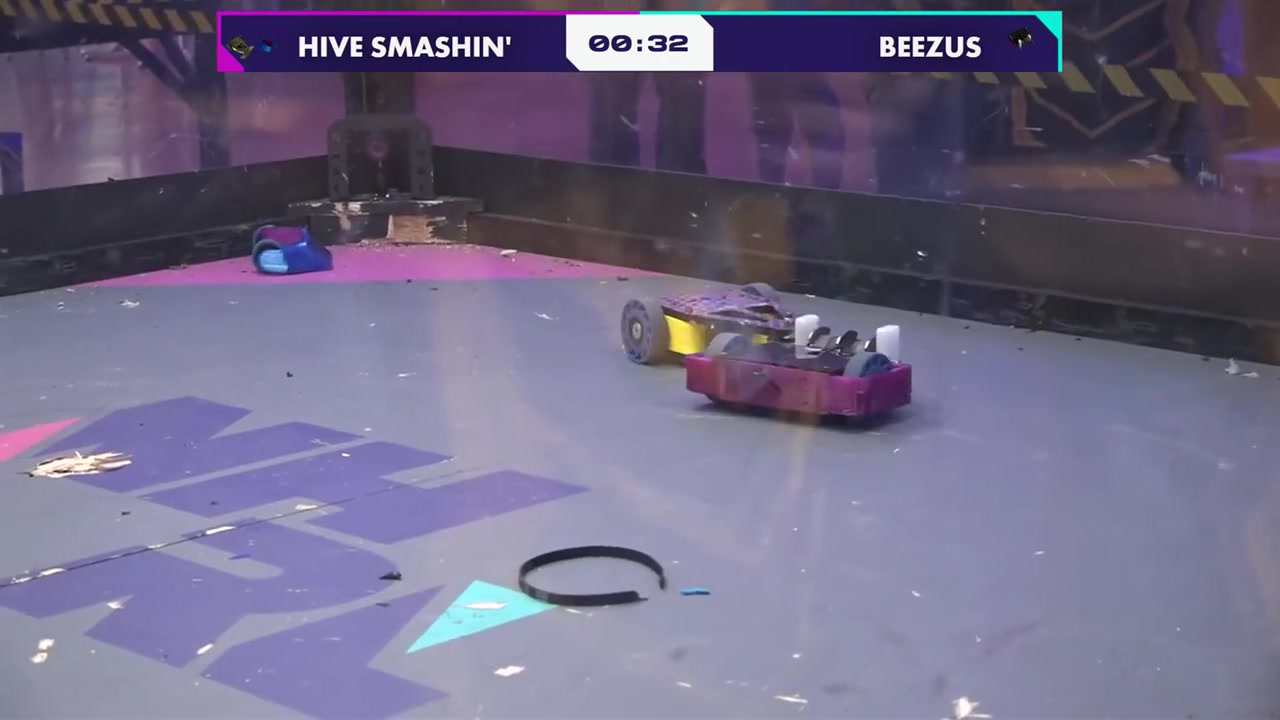belt: (515, 542, 676, 607)
combatbot: (686, 336, 911, 430), (620, 281, 793, 365)
minibot: (248, 221, 335, 278)
